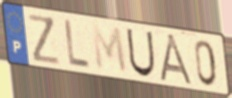0: (194, 39, 219, 88)
A: (158, 33, 197, 88)
L: (63, 17, 91, 72)
M: (89, 22, 129, 76)
U: (125, 27, 157, 79)
Z: (27, 12, 62, 67)
